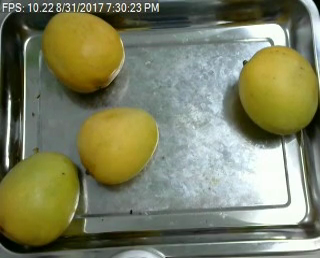Mango: (232, 43, 320, 136), (0, 149, 80, 246), (39, 9, 128, 91), (77, 107, 160, 184)
